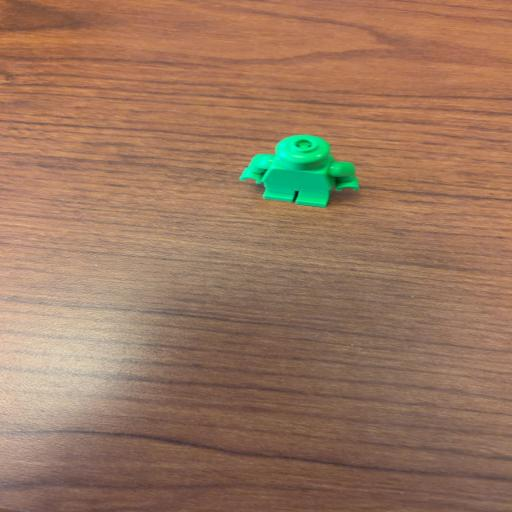UnoQ-minifig-detector: (239, 134, 359, 207)
